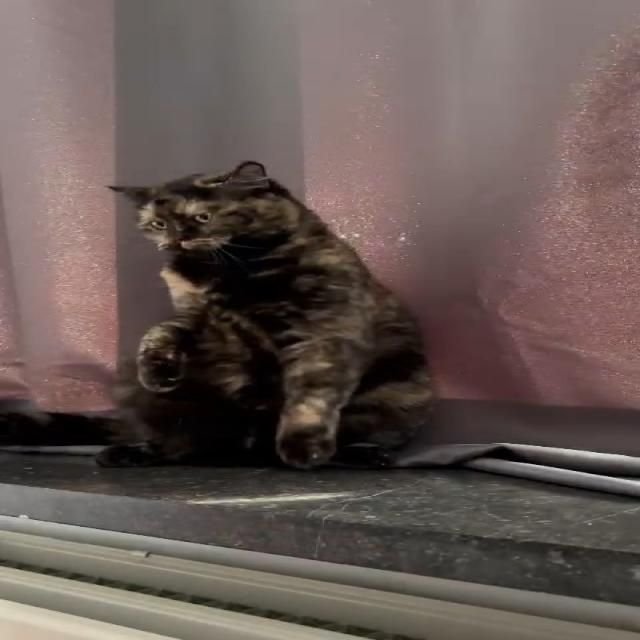authorized: (95, 161, 436, 470)
